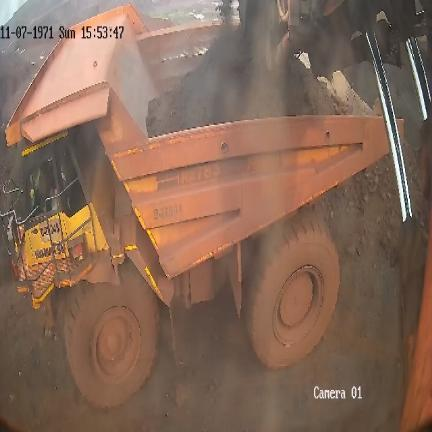pile: (145, 34, 347, 137), (324, 156, 397, 255)
